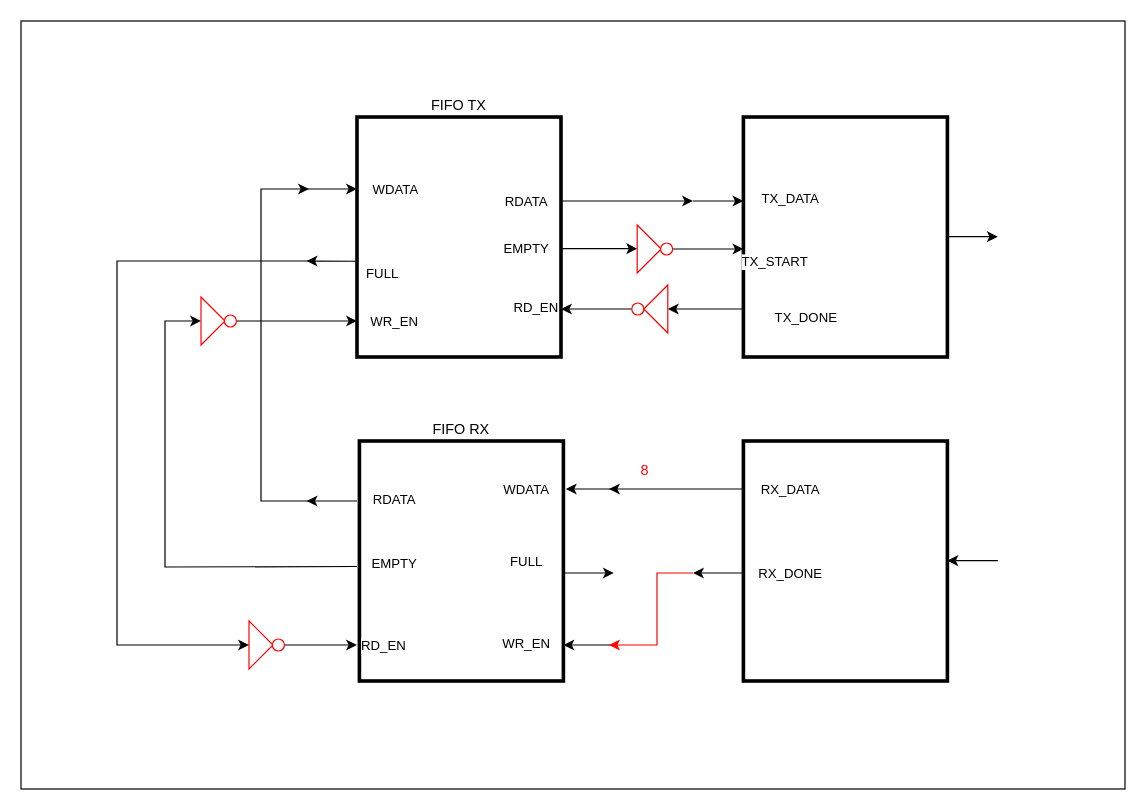
Some shapes in this 1146 by 810 pixel diagram are drawn without their labels. Here are the shapes that lost their labels. From the top down, the centre of each, then its label:
point (845, 236): TX
point (845, 560): RX
